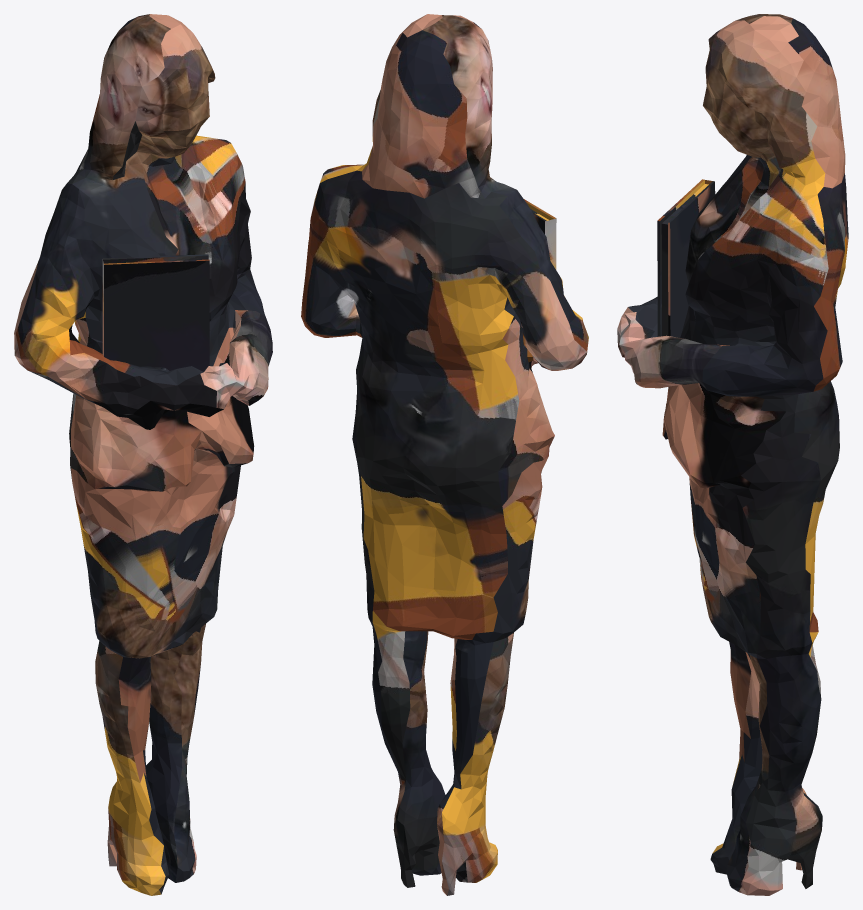
The model's file is girl_4.glb.
3 views of the same model, side by side, from view 1: azimuth 30°, elevation 25°; view 2: azimuth 150°, elevation 25°; view 3: azimuth 270°, elevation 25° (orthographic).
Visible parts, largest first — view 1: girl_4; view 2: girl_4; view 3: girl_4.
Boxes of the visible parts, left/top/right/bottom form: girl_4: left=14, top=14, right=272, bottom=895; girl_4: left=301, top=14, right=588, bottom=895; girl_4: left=617, top=14, right=848, bottom=895.
Bounding box in the file's own units: 0.5255 × 1.68 × 0.4078.
Materials: 1 (1 with a texture image).
